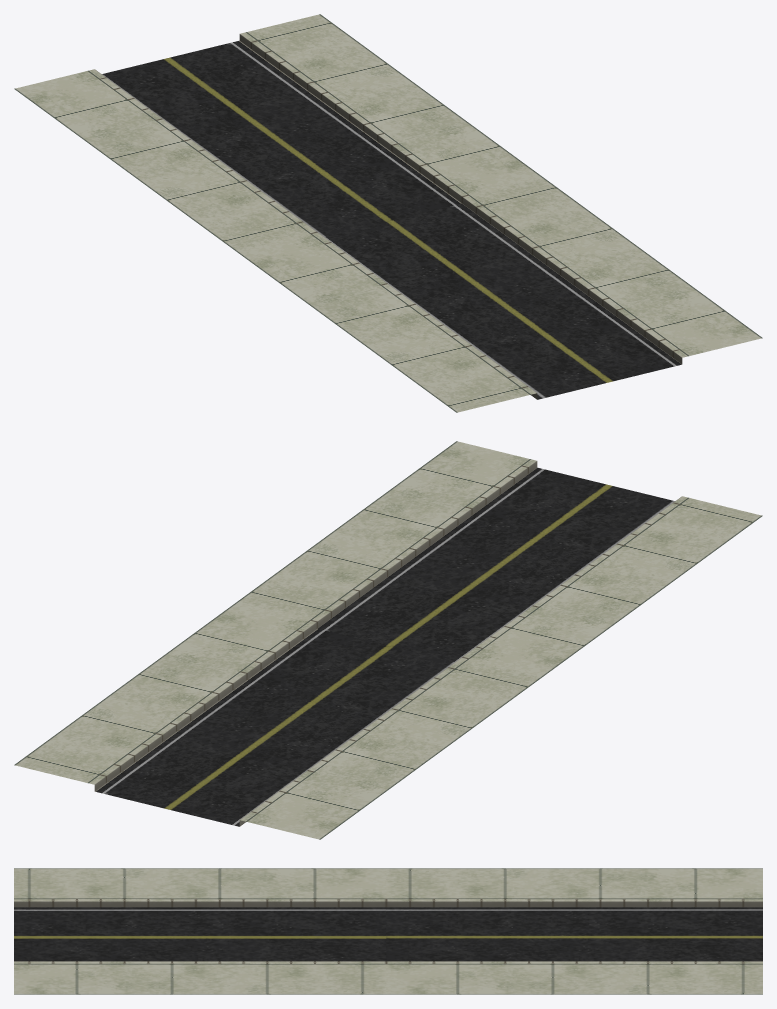
The model's file is AsfaltoReto.fbx.
The picture shows the model from 3 angles, top to bottom: view 1: azimuth 30°, elevation 25°; view 2: azimuth 150°, elevation 25°; view 3: azimuth 270°, elevation 25°; orthographic projection. The views are drawn at different scales.
Parts seen in each view (by area): view 1: AsfaltoReto; view 2: AsfaltoReto; view 3: AsfaltoReto.
Boxes of the visible parts, x1,y1,x2,y2 form: AsfaltoReto: (14, 14, 762, 412); AsfaltoReto: (14, 441, 762, 839); AsfaltoReto: (14, 868, 762, 994).
Bounding box in the file's own units: 707 × 15.01 × 1771.
